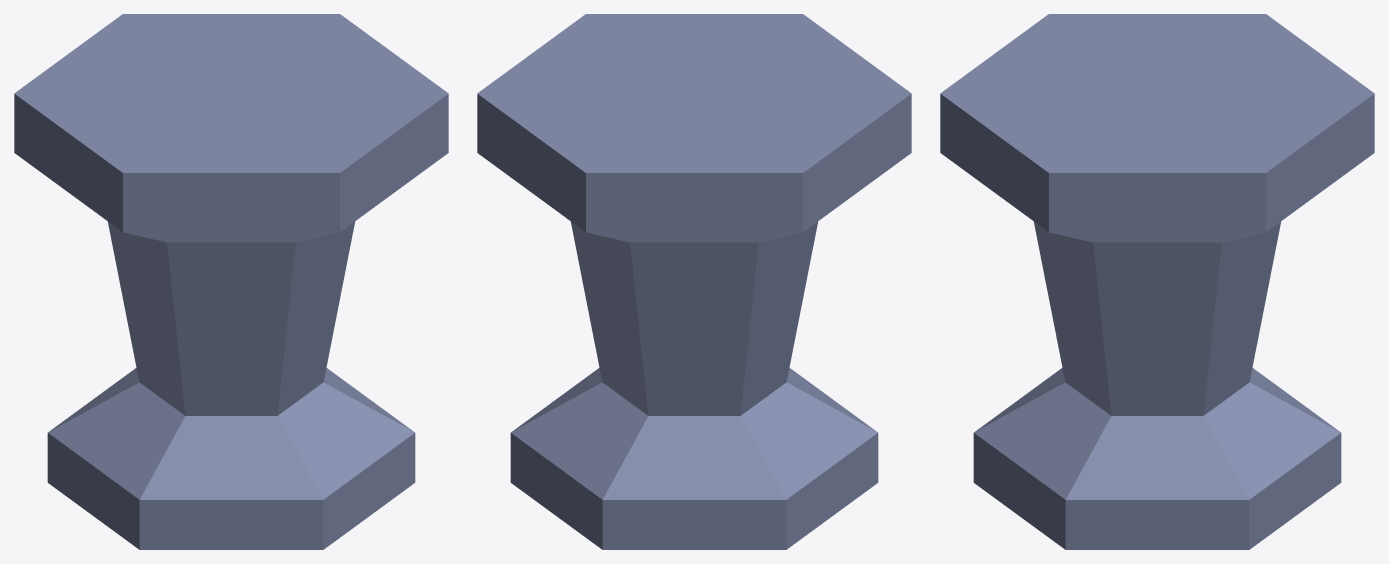
File: Pin.glb
3 renders of one model, left to right at view 1: azimuth 30°, elevation 25°; view 2: azimuth 150°, elevation 25°; view 3: azimuth 270°, elevation 25°, orthographic.
Visible parts, largest first — view 1: Cylinder; view 2: Cylinder; view 3: Cylinder.
Boxes of the visible parts, x1,y1,x2,y2 form: Cylinder: (14, 14, 448, 549); Cylinder: (477, 14, 911, 549); Cylinder: (940, 14, 1374, 549).
Size of the model in its own units: 0.2453 by 0.28 by 0.2833.
